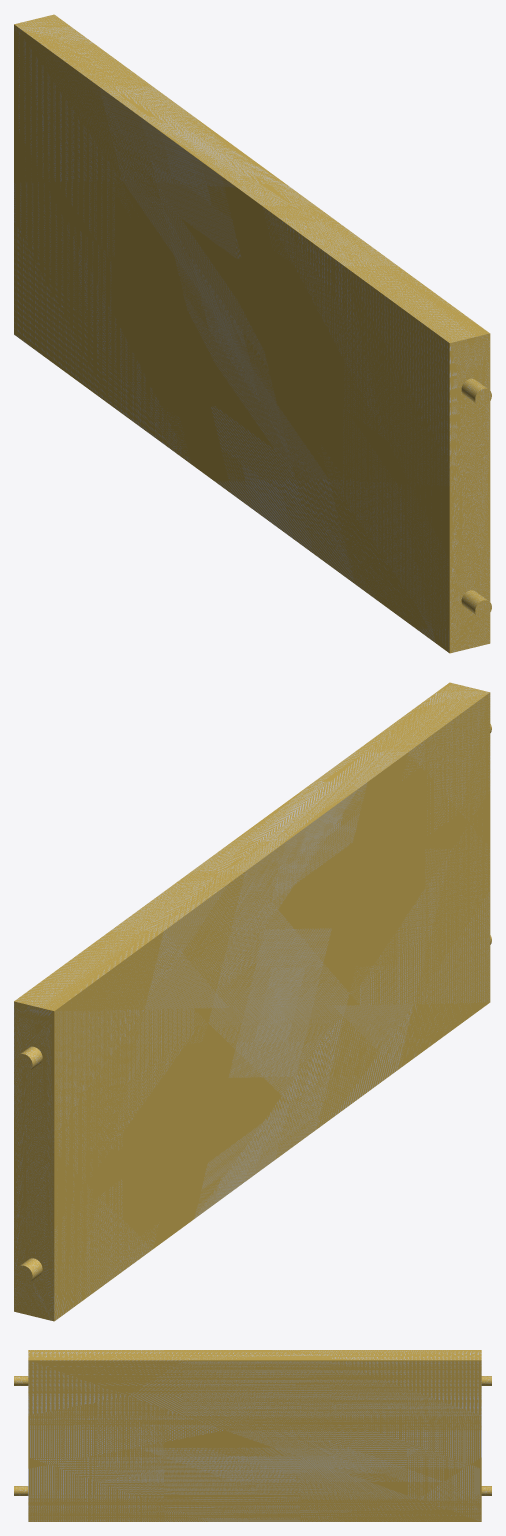
File: original-112.obj
3 views of the same model, one above another, from view 1: azimuth 30°, elevation 25°; view 2: azimuth 150°, elevation 25°; view 3: azimuth 270°, elevation 25° (orthographic). The views are drawn at different scales.
Visible parts, largest first — view 1: Component_6_9/Component_6_1_2/mesh24/mesh24-geometry#mesh24-geom; view 2: Component_6_9/Component_6_1_2/mesh24/mesh24-geometry#mesh24-geom; view 3: Component_6_9/Component_6_1_2/mesh24/mesh24-geometry#mesh24-geom.
Part boxes in pixels (x1,y1,x2,y2): Component_6_9/Component_6_1_2/mesh24/mesh24-geometry#mesh24-geom: [14, 14, 491, 653]; Component_6_9/Component_6_1_2/mesh24/mesh24-geometry#mesh24-geom: [14, 682, 491, 1321]; Component_6_9/Component_6_1_2/mesh24/mesh24-geometry#mesh24-geom: [14, 1350, 491, 1521].
Size of the model in its own units: 0.0131 by 0.0964 by 0.2587.
